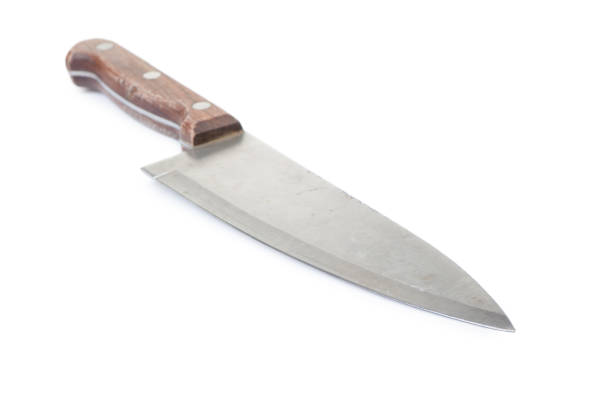knife: (63, 36, 517, 335)
